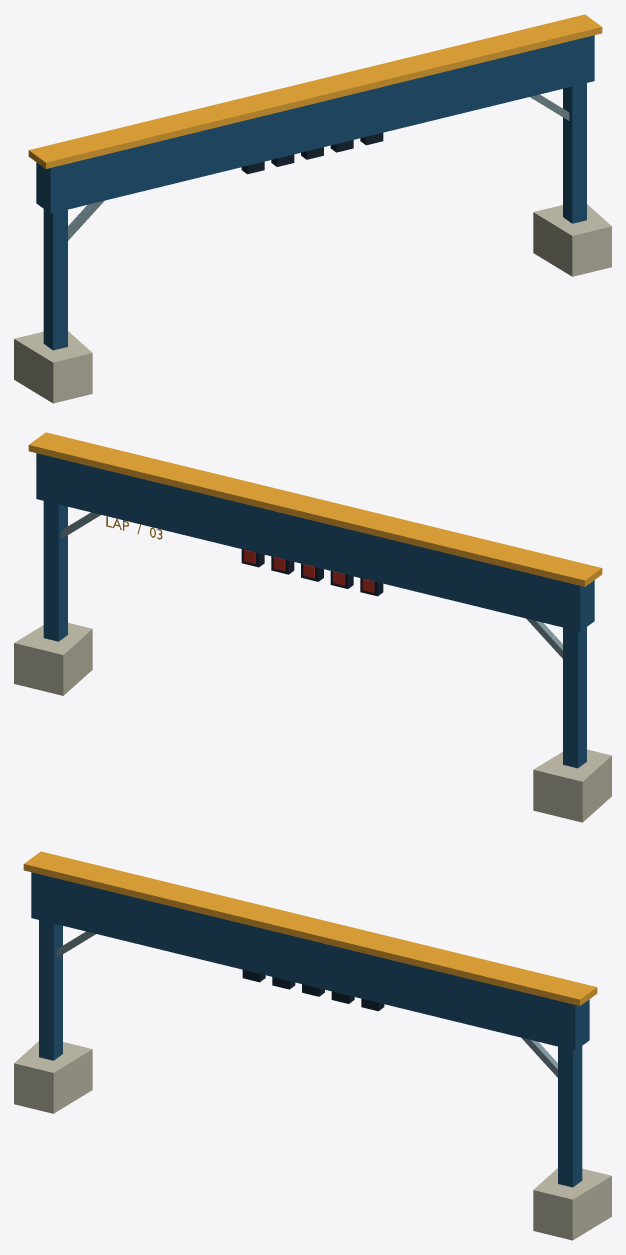
The model's file is start_gantry.glb.
3 renders of one model, top to bottom at view 1: azimuth 30°, elevation 25°; view 2: azimuth 150°, elevation 25°; view 3: azimuth 330°, elevation 25°, orthographic.
Visible parts, largest first — view 1: GantrySign, GantryCrown, GantryBases, GantryUprights, StartingLights, GantryBraces; view 2: GantrySign, GantryCrown, GantryBases, GantryUprights, StartingLights, GantryBraces, LampLens; view 3: GantrySign, GantryCrown, GantryBases, GantryUprights, StartingLights, GantryBraces.
Part boxes in pixels (x1,y1,x2,y2): GantrySign: [36, 35, 594, 213]; GantryCrown: [28, 14, 602, 168]; GantryBases: [14, 204, 611, 403]; GantryUprights: [43, 83, 586, 350]; StartingLights: [241, 133, 383, 174]; GantryBraces: [68, 94, 569, 240]; GantrySign: [36, 453, 594, 631]; GantryCrown: [28, 432, 602, 586]; GantryBases: [14, 623, 611, 822]; GantryUprights: [43, 501, 586, 768]; StartingLights: [241, 549, 383, 596]; GantryBraces: [61, 512, 562, 658]; LampLens: [244, 550, 374, 592]; GantrySign: [31, 872, 589, 1050]; GantryCrown: [23, 851, 597, 1005]; GantryBases: [14, 1041, 611, 1240]; GantryUprights: [39, 920, 582, 1187]; StartingLights: [242, 970, 384, 1011]; GantryBraces: [56, 931, 557, 1077].
Bounding box in the file's own units: 23 × 9.06 × 2.4.
